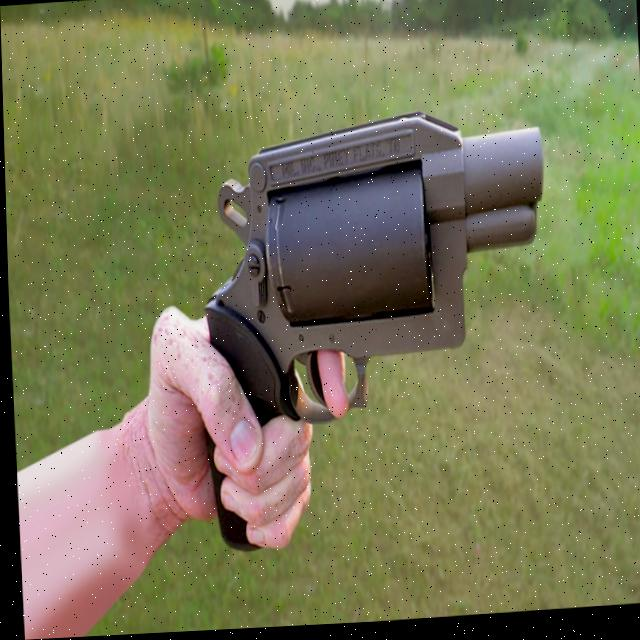pistol: (187, 101, 559, 562)
